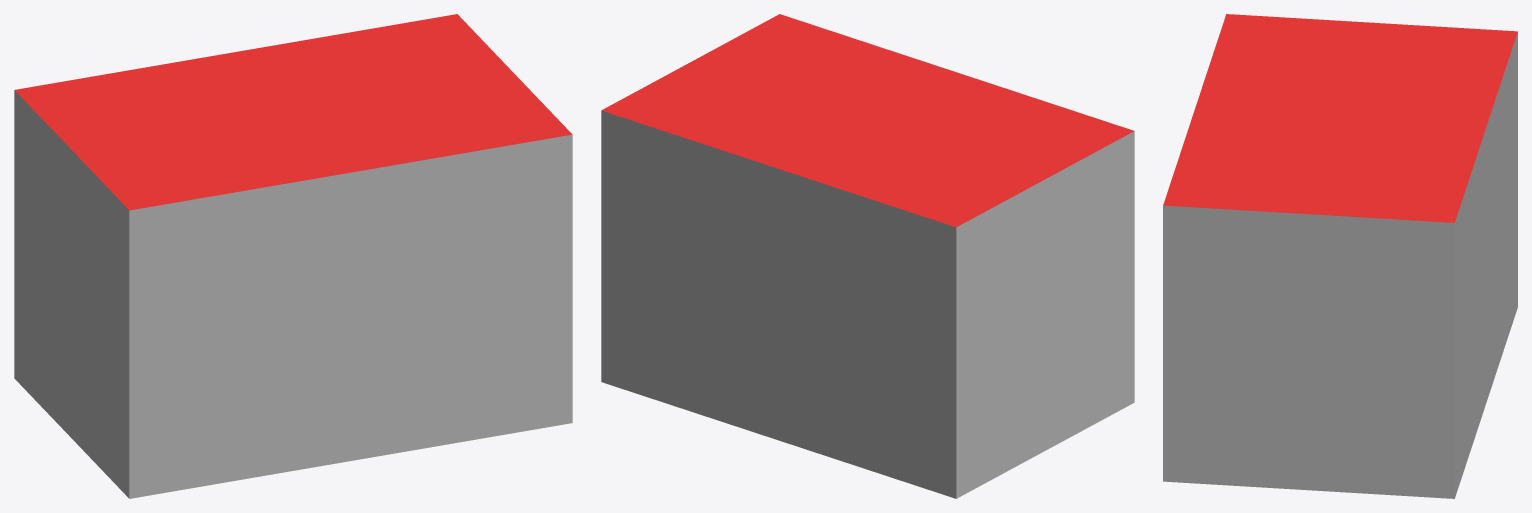
The model's file is DEBY_LOD2_4729120.dae.
3 renders of one model, left to right at view 1: azimuth 30°, elevation 25°; view 2: azimuth 150°, elevation 25°; view 3: azimuth 270°, elevation 25°, orthographic. The views are drawn at different scales.
Size of the model in its own units: 4.52 by 3.24 by 2.79.
